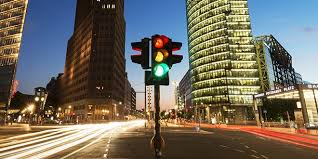signal: (152, 34, 171, 84)
